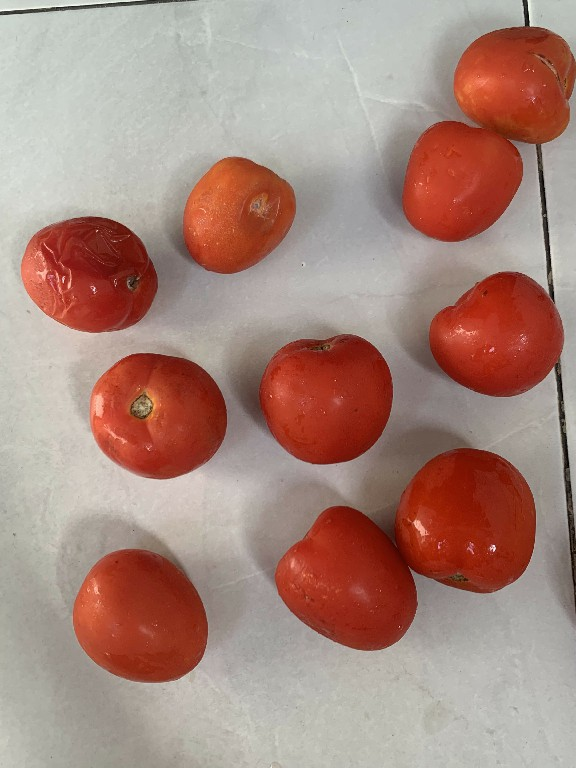NG: (19, 209, 160, 337), (174, 147, 300, 276), (447, 22, 574, 147)
OK: (265, 497, 416, 655), (396, 445, 540, 599), (82, 345, 233, 479), (255, 325, 396, 468), (65, 547, 209, 687), (423, 264, 565, 402), (401, 117, 523, 241)
